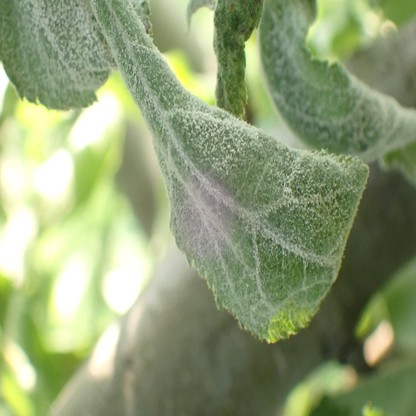powdery_mildew: (92, 0, 369, 341), (259, 1, 416, 187), (0, 0, 117, 111), (214, 0, 263, 121)
